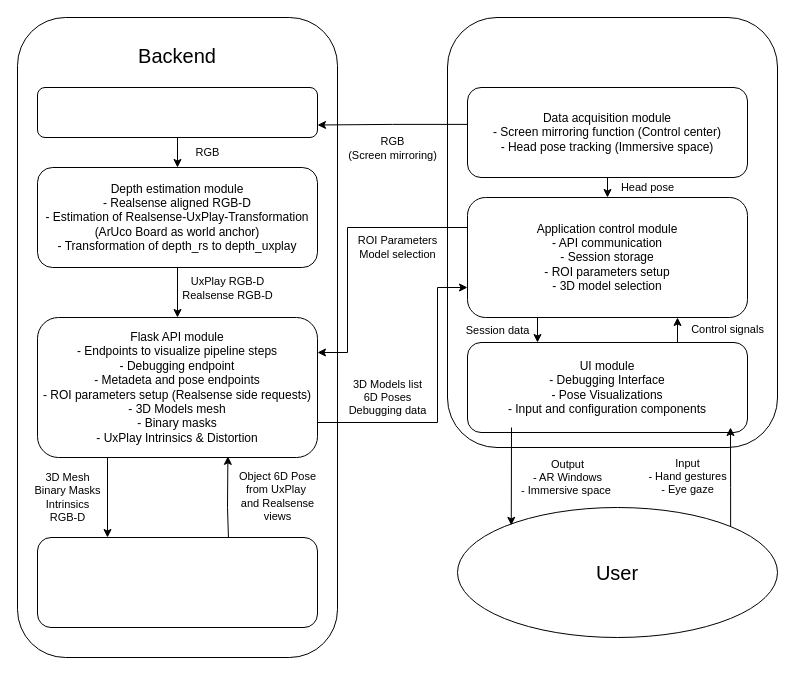
Image size: 795x675. Some labels were removed from this diagram. Each missing label, with the box of its shape:
Frontend: (446, 16, 778, 448)
Pose estimation module - Foundationpose API: (36, 536, 318, 628)
UxPlay m odule - Screen mirroring access point: (36, 86, 318, 138)
